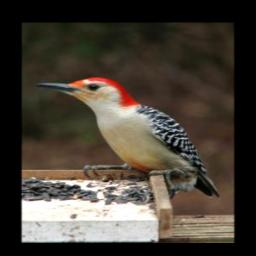Woodpecker: (35, 77, 223, 200)
